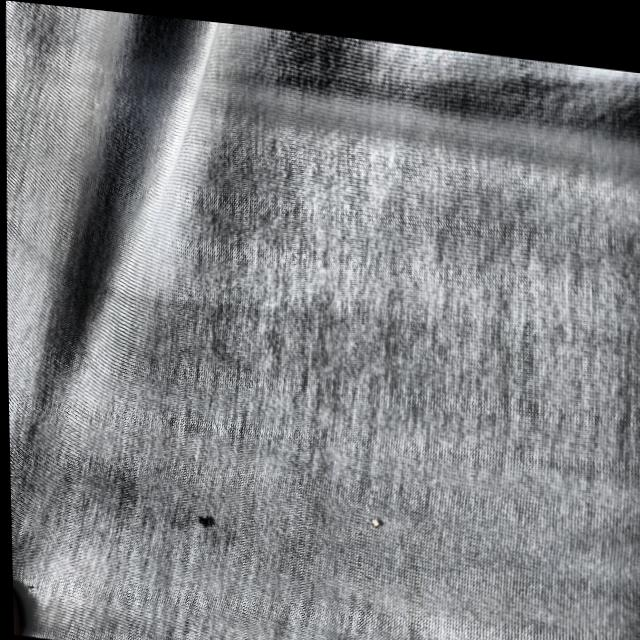Hole: (187, 499, 220, 534), (361, 497, 385, 525)
